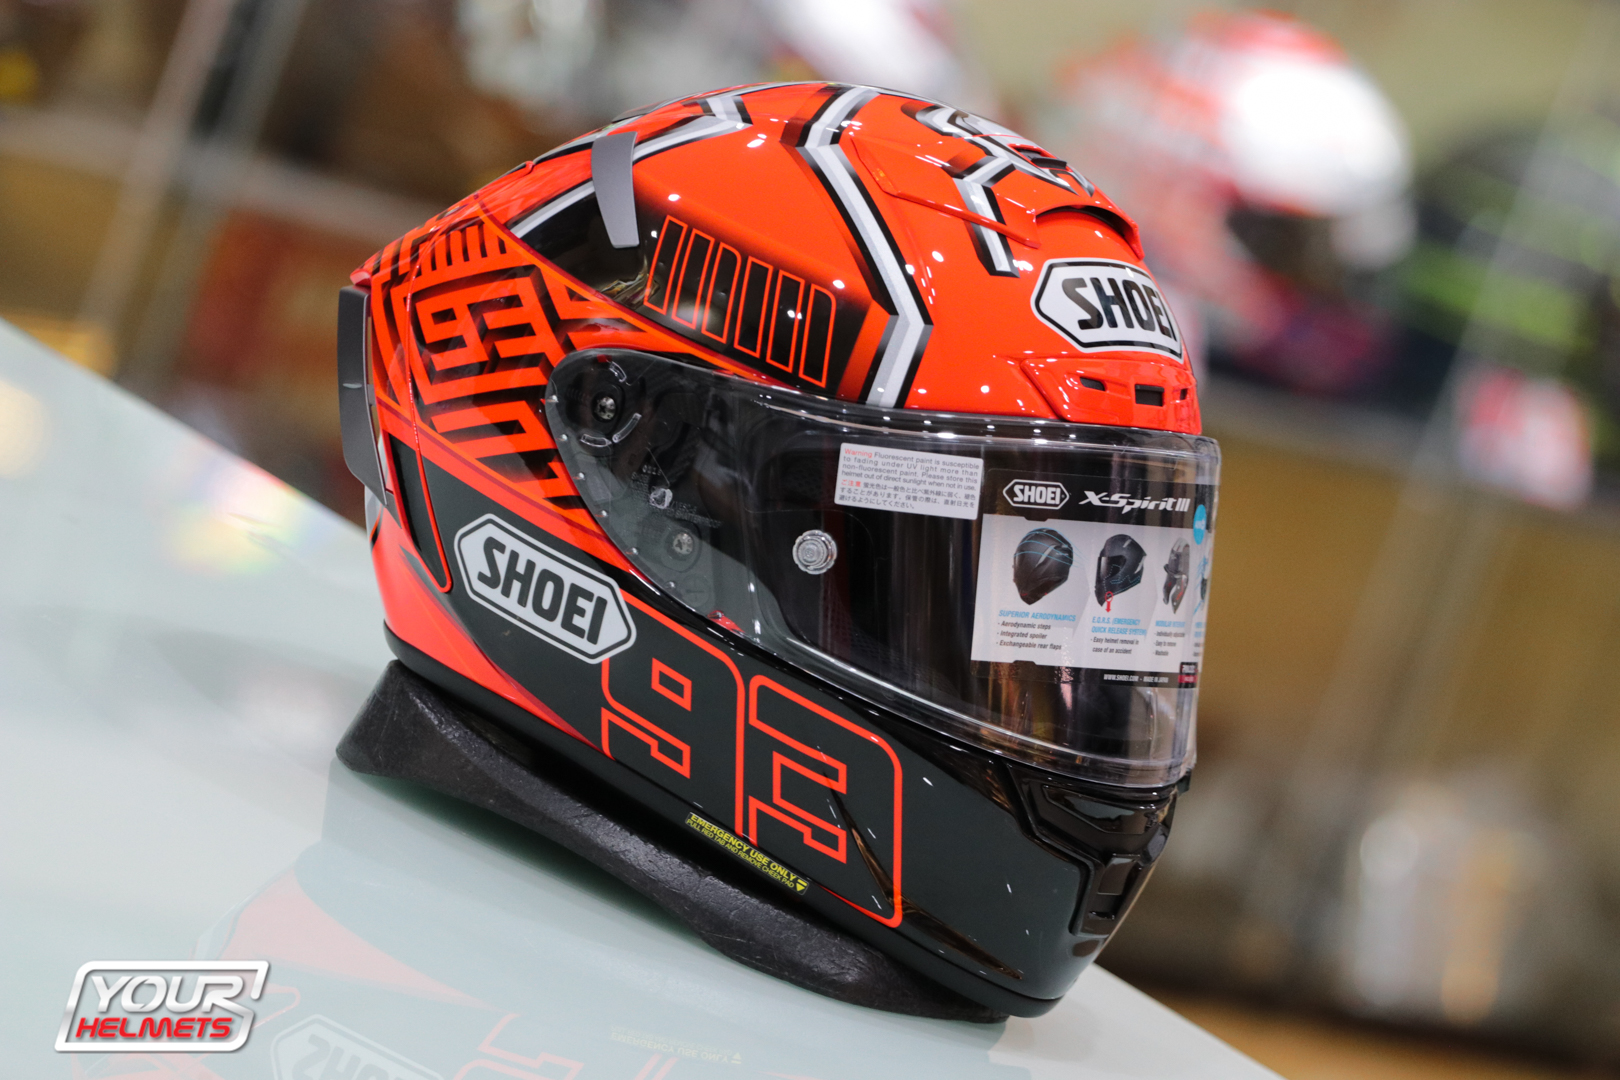helmet: (336, 82, 1220, 1022)
